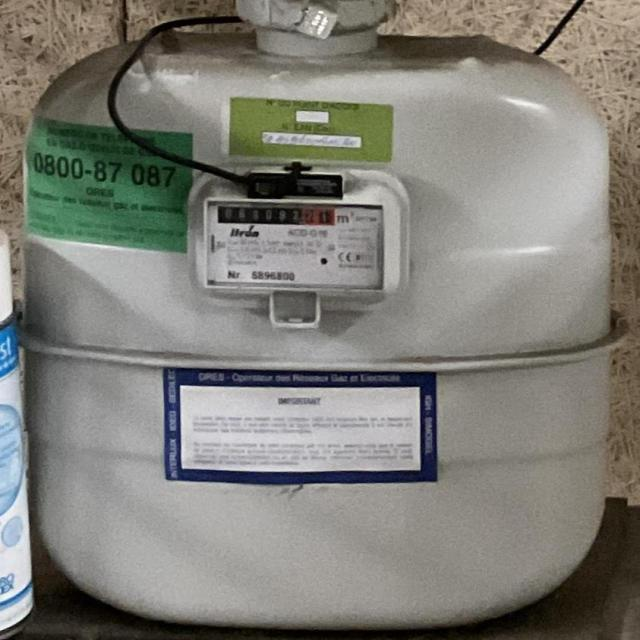gaz_meter: (202, 193, 390, 293)
indication: (215, 203, 340, 225)
